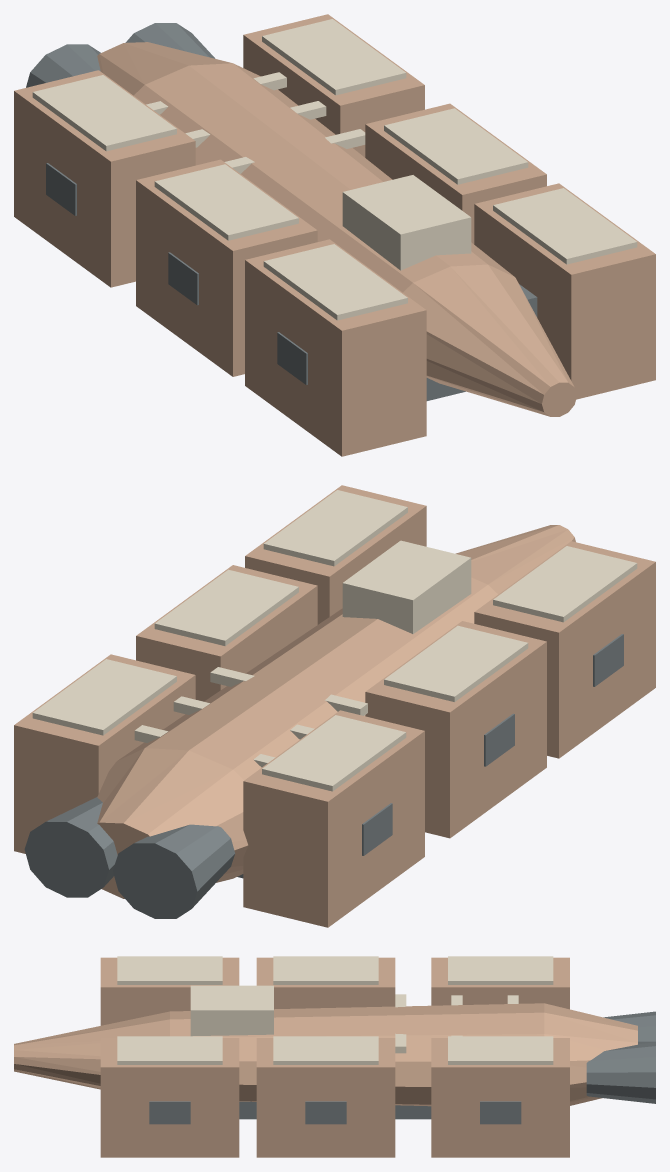
The picture shows the model from 3 angles, top to bottom: view 1: azimuth 30°, elevation 25°; view 2: azimuth 150°, elevation 25°; view 3: azimuth 270°, elevation 25°; orthographic projection. The views are drawn at different scales.
Bounding box in the file's own units: 3.67 × 1.62 × 8.98.
